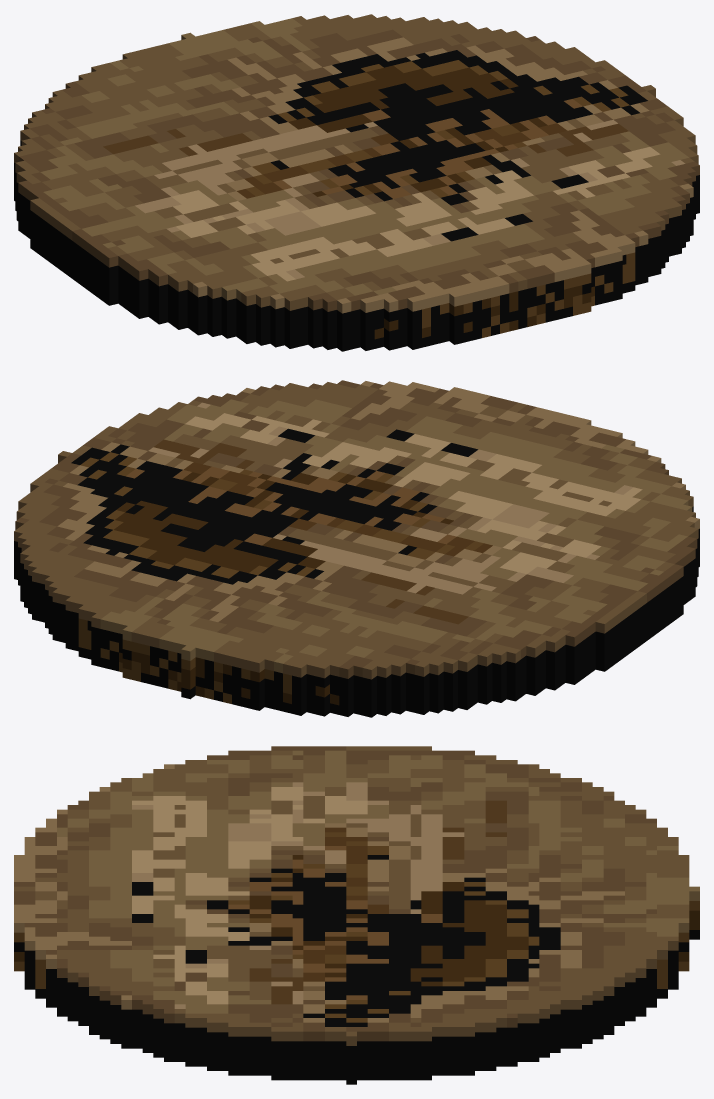
The model's file is Tai_13.obj.
The picture shows the model from 3 angles, top to bottom: view 1: azimuth 30°, elevation 25°; view 2: azimuth 150°, elevation 25°; view 3: azimuth 270°, elevation 25°; orthographic projection.
Bounding box in the file's own units: 6.4 × 0.5 × 6.4.
